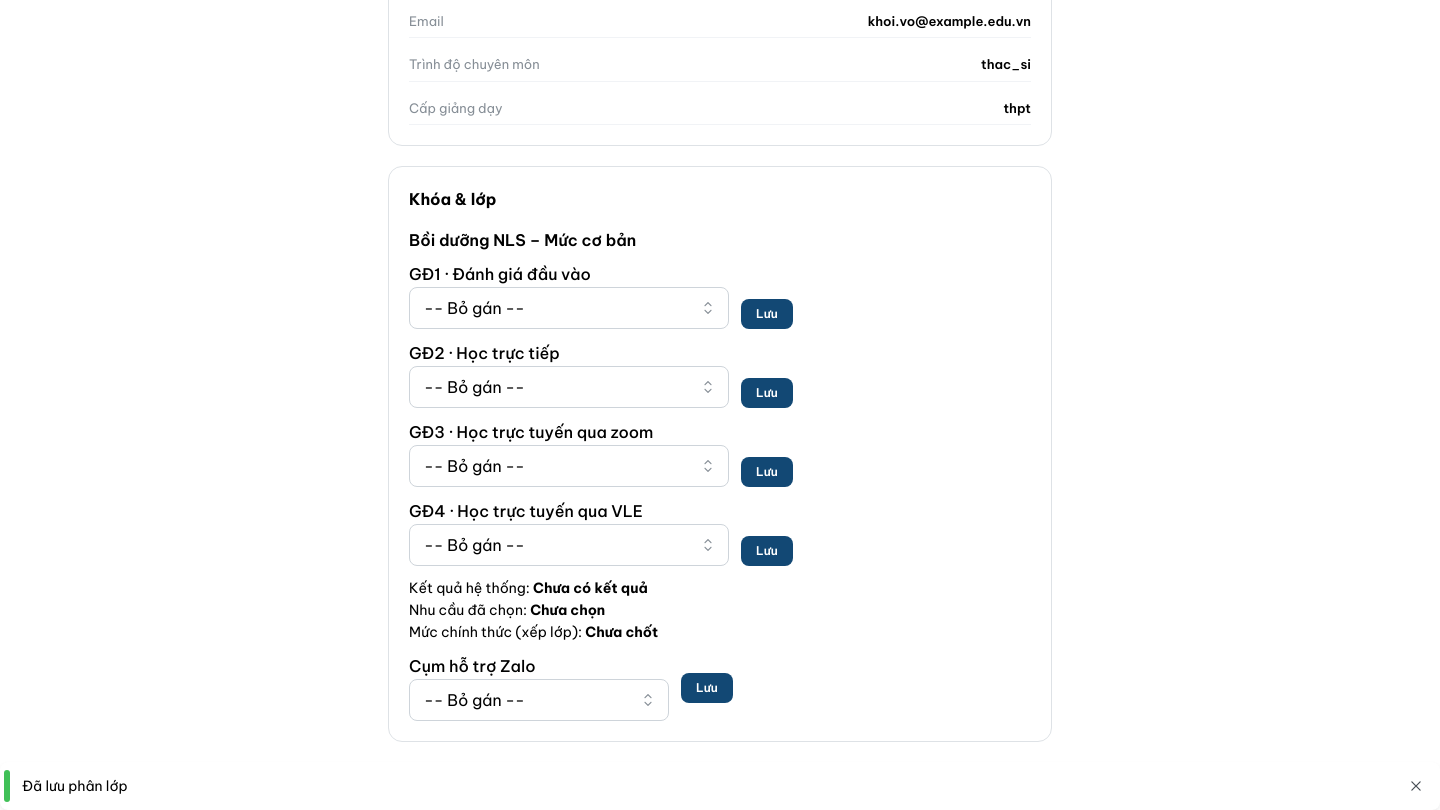
Test case: Admin — Chi tiết hồ sơ học viên — Khóa & lớp (QĐ10) › chọn cụm hỗ trợ Zalo rồi bấm Lưu -> gọi đúng API PATCH /dang-ky-hoc/{id}/cum, hiện thông báo thành công
(page scrolled)
Check: the text "Bồi dưỡng NLS – Mức cơ bản" is shown, box [409,230,636,250]
Step 1. Click the field labelled "Cụm hỗ trợ Zalo" → (539, 700), box [409,679,669,721]
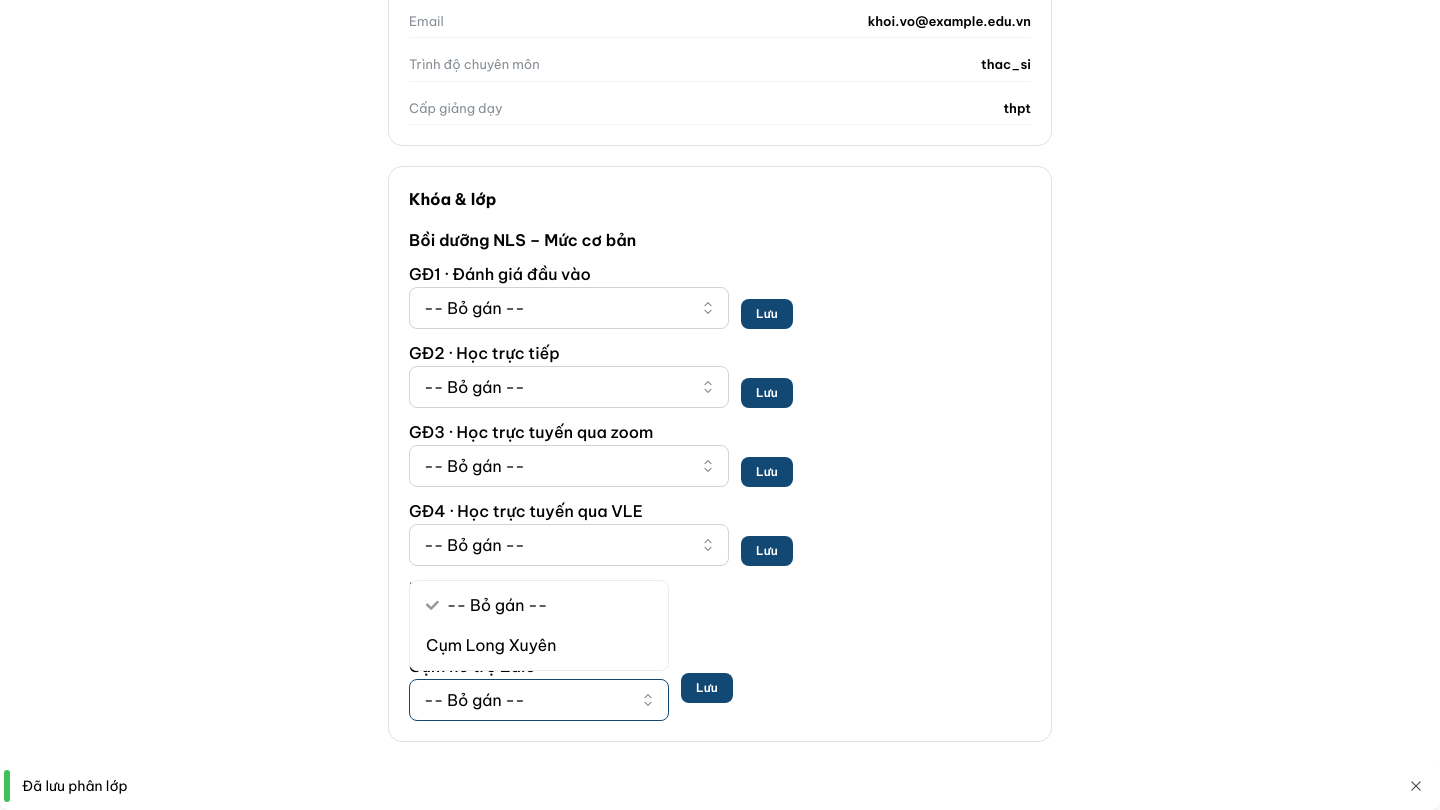
Step 2. Click the option "Cụm Long Xuyên" → (491, 645), box [426,635,556,655]
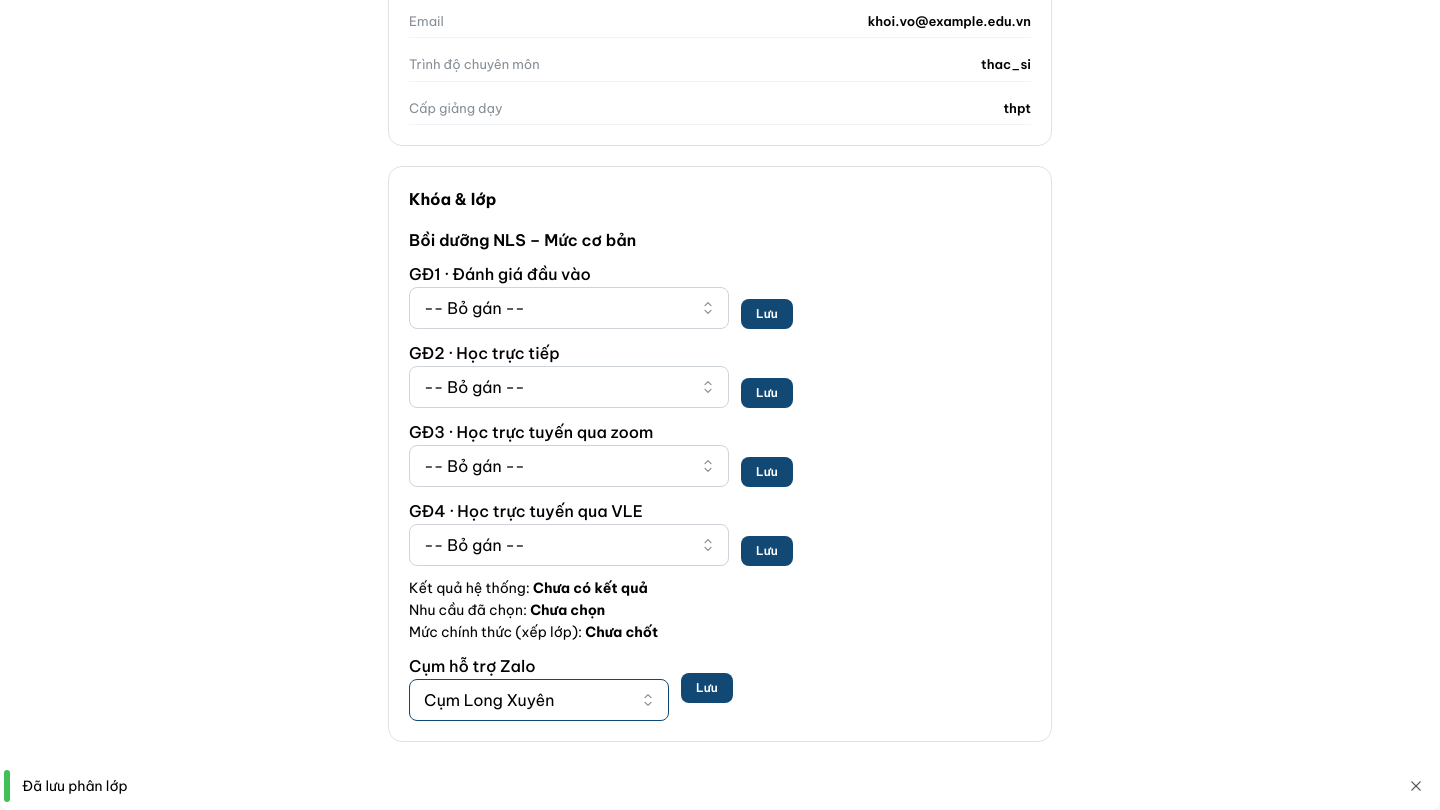
Step 3. Click the button "Lưu" next to "Cụm hỗ trợ Zalo" → (707, 688), box [681,673,733,703]
(page scrolled)
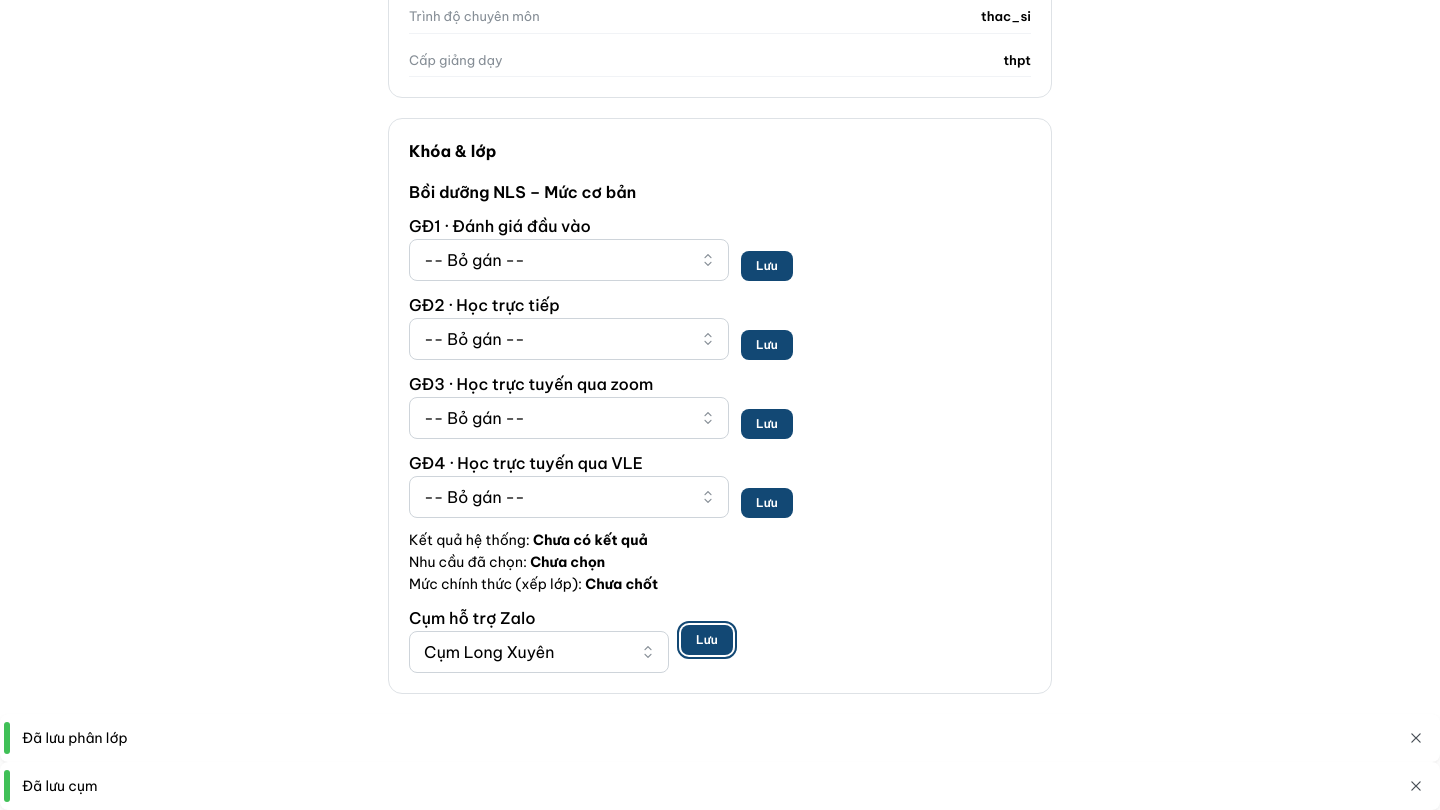
Check: the text "Đã lưu cụm" is shown, box [22,777,98,795]
